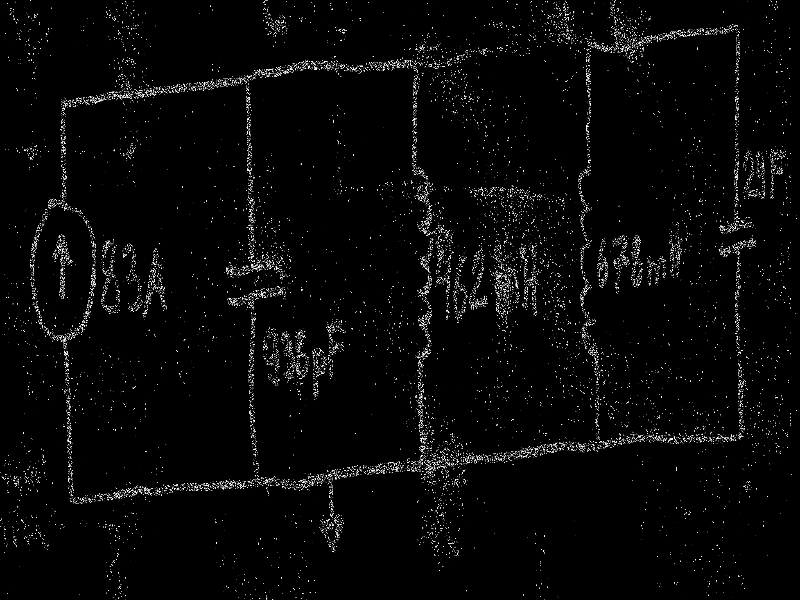2: (469, 247, 489, 313), (741, 148, 755, 201)
3: (121, 242, 143, 315), (280, 327, 295, 385)
4: (434, 243, 451, 323)
6: (450, 249, 469, 326), (595, 236, 609, 292)
7: (609, 232, 630, 298)
8: (100, 236, 121, 319), (294, 324, 310, 382), (630, 231, 643, 292)
9: (260, 323, 281, 392), (755, 149, 767, 202)
A: (142, 241, 169, 317)
F: (325, 319, 345, 382), (768, 145, 786, 202)
H: (520, 244, 539, 319), (667, 225, 682, 282)
m: (491, 266, 521, 313), (644, 253, 667, 290)
p: (310, 346, 328, 404)
